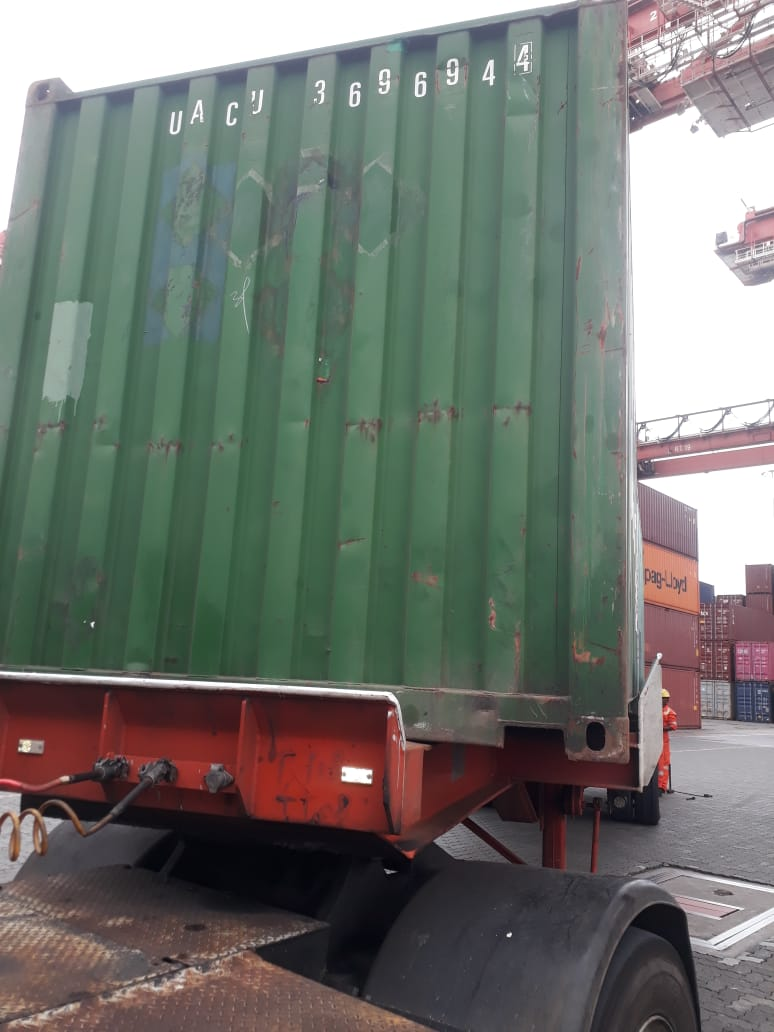dented: (4, 373, 576, 506)
